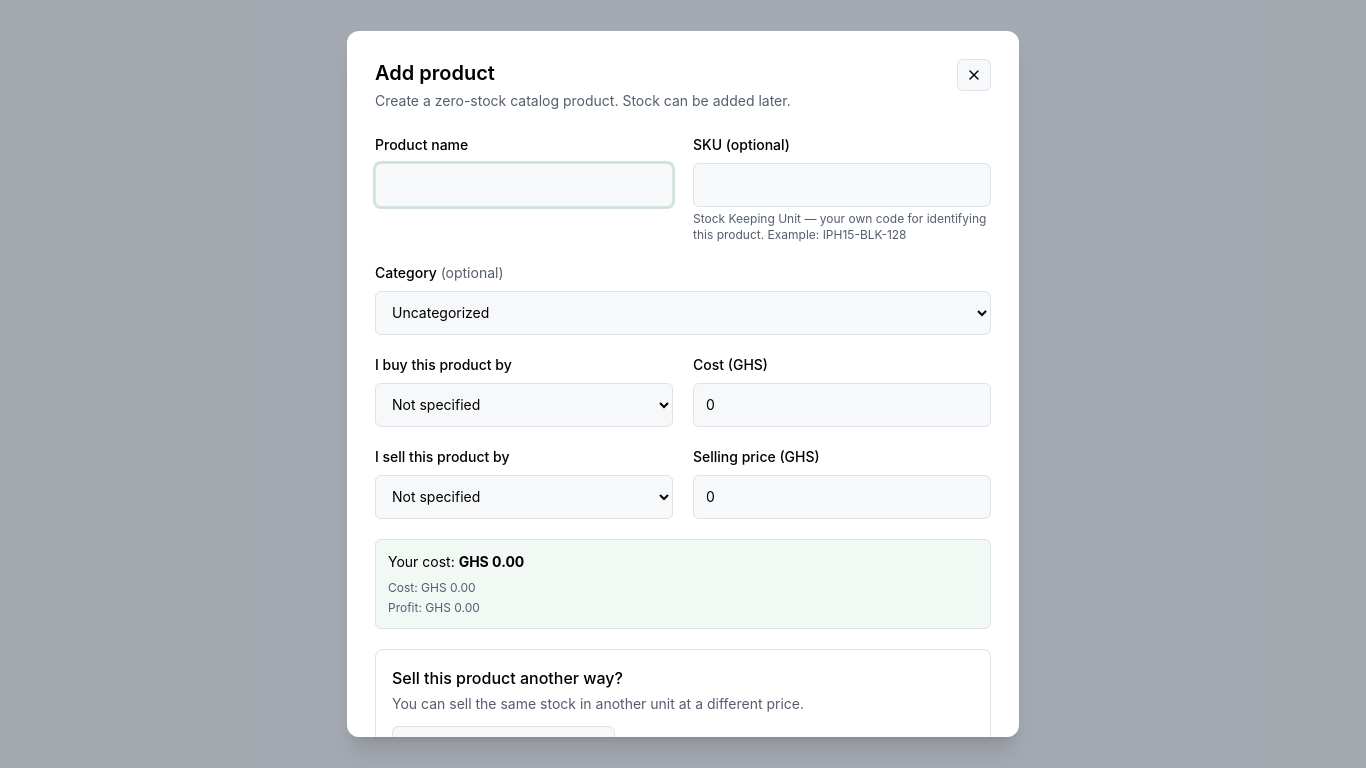
Test: ProductFormDialog › supports piece selling units purchased by the carton
Step 1. Select "Piece" in the dropdown labelled "I sell this product by" → (524, 497), box left=375, top=475, right=673, bottom=519
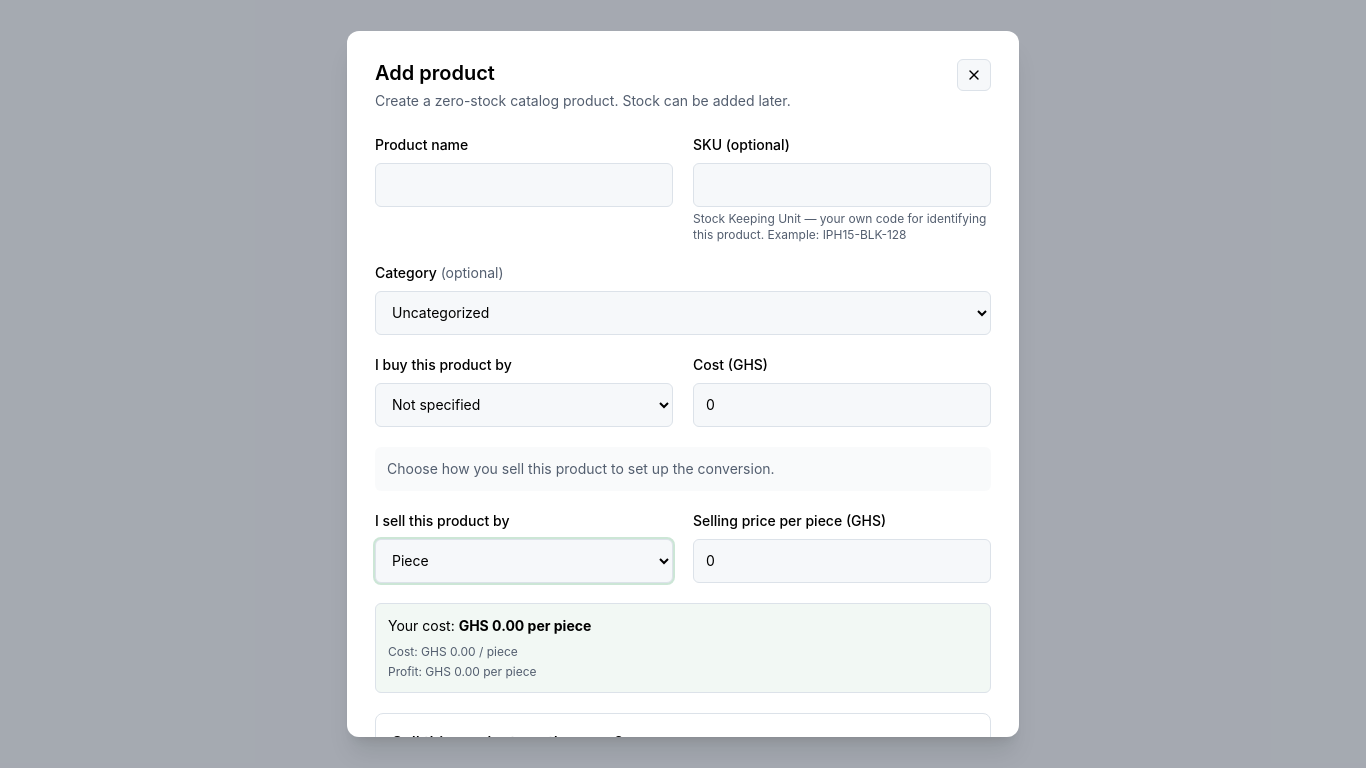
Step 2. Select "Carton" in the dropdown labelled "I buy this product by" → (524, 405), box left=375, top=383, right=673, bottom=427
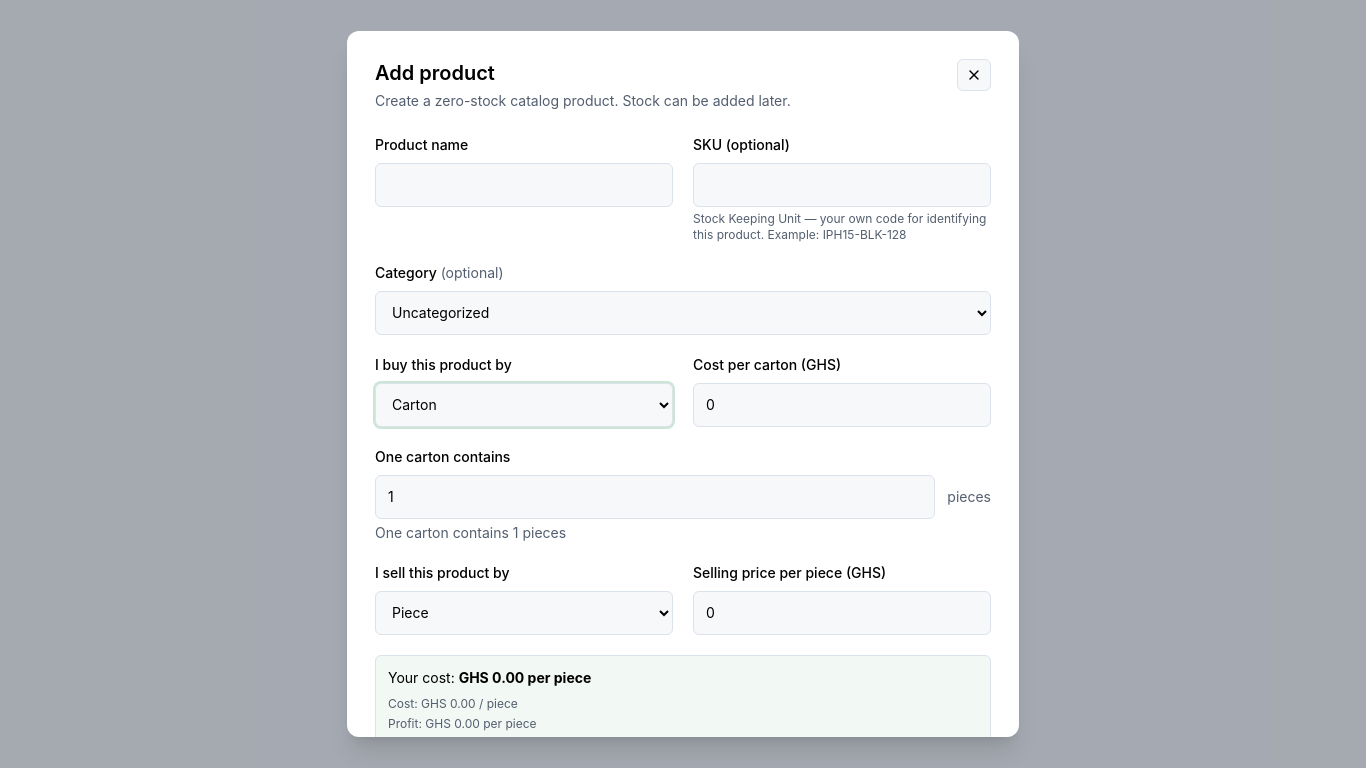
Expected: the field labelled "Cost per carton (GHS)" is shown, left=693, top=383, right=991, bottom=427
Result: the field labelled "One carton contains" is shown at left=375, top=475, right=935, bottom=519
